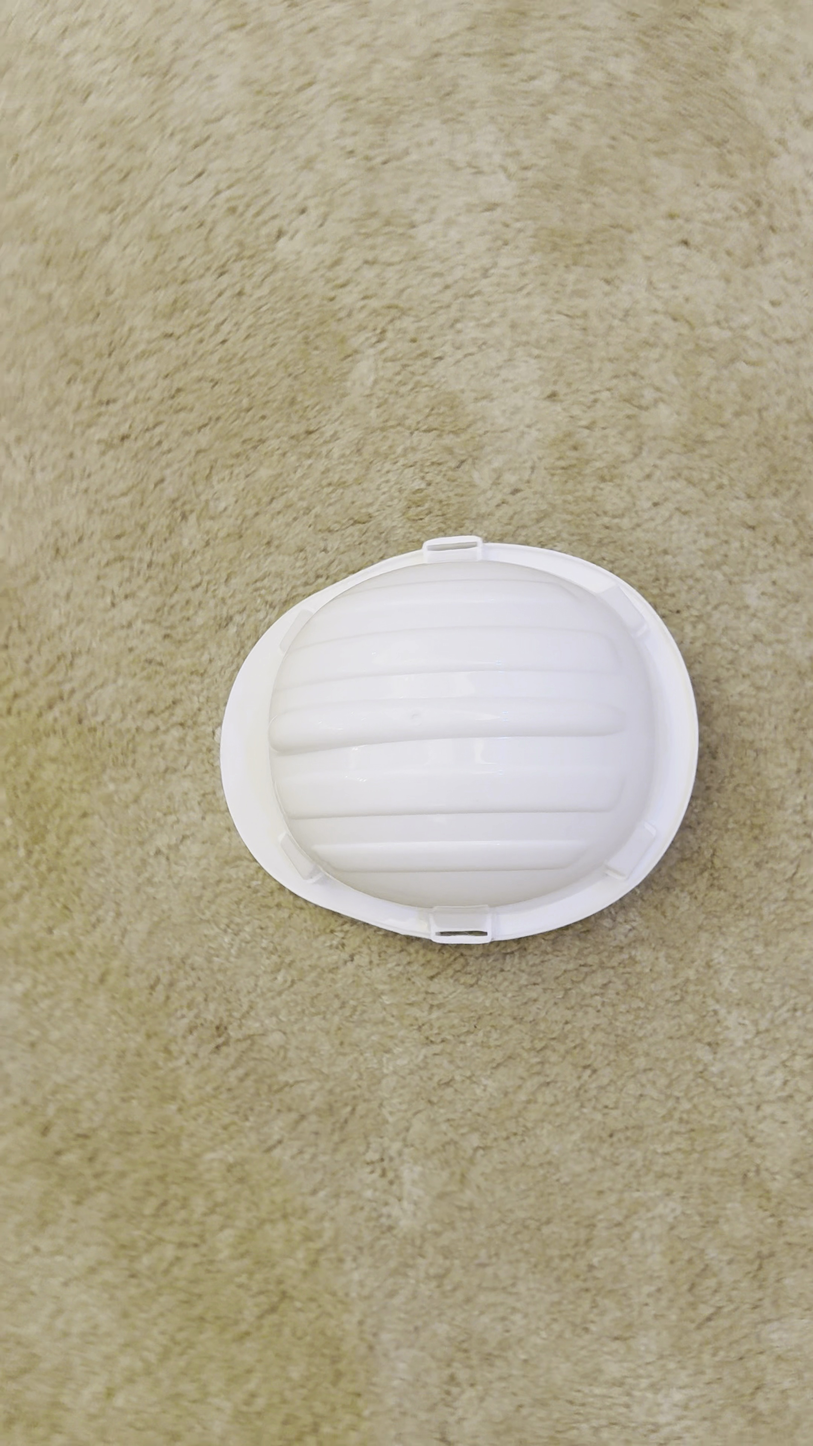safety_helmet: (217, 532, 701, 948)
